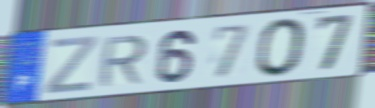6: (155, 27, 197, 85)
7: (313, 13, 359, 73), (211, 22, 252, 80)
O: (255, 16, 308, 79)
R: (96, 33, 150, 89)
Z: (42, 34, 100, 96)
